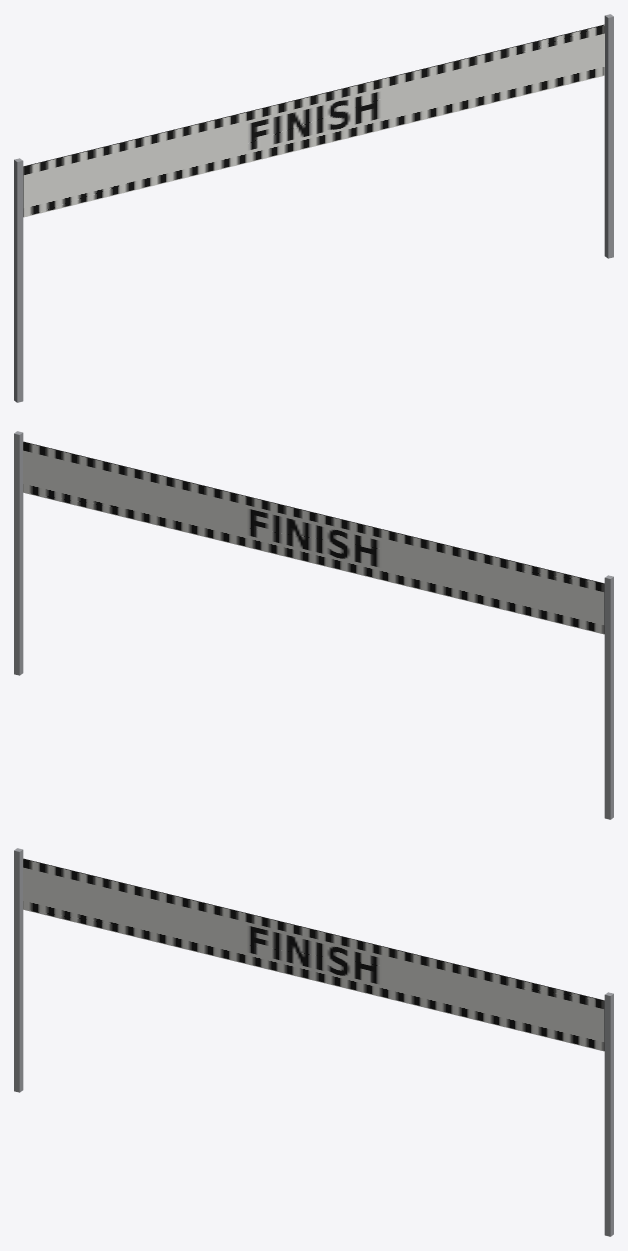
The model's file is banner_finish.dae.
3 views of the same model, one above another, from view 1: azimuth 30°, elevation 25°; view 2: azimuth 150°, elevation 25°; view 3: azimuth 330°, elevation 25° (orthographic).
Visible parts, largest first — view 1: marker; view 2: marker; view 3: marker.
Boxes of the visible parts, x1,y1,x2,y2 form: marker: [14, 14, 613, 402]; marker: [14, 431, 613, 819]; marker: [14, 848, 613, 1236].
Bounding box in the file's own units: 12.32 × 0.12 × 4.75.
Materials: 1 (1 with a texture image).
